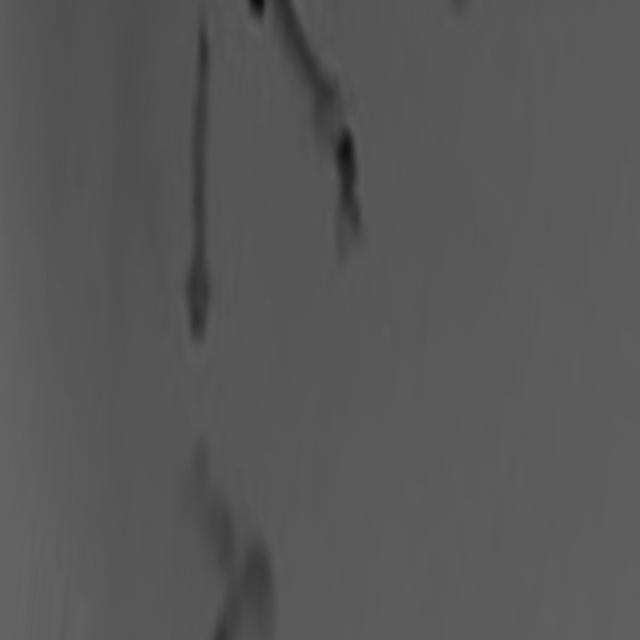larvas: (276, 0, 362, 200), (182, 20, 209, 328), (219, 539, 278, 640), (198, 446, 235, 566)
